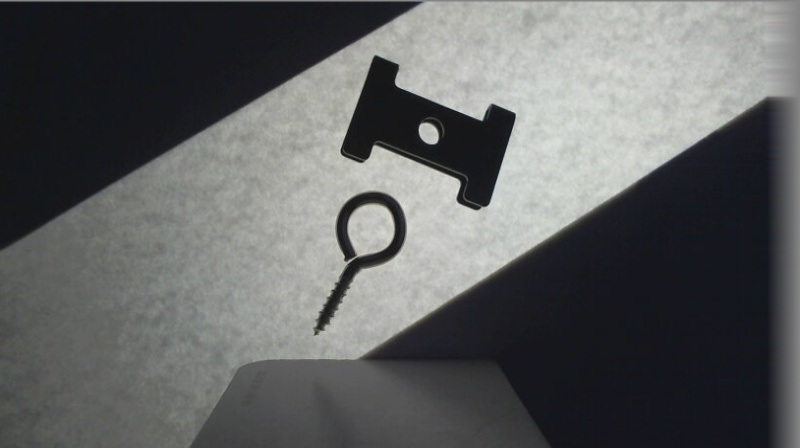O001: (309, 189, 409, 335)
O002: (337, 54, 515, 211)
